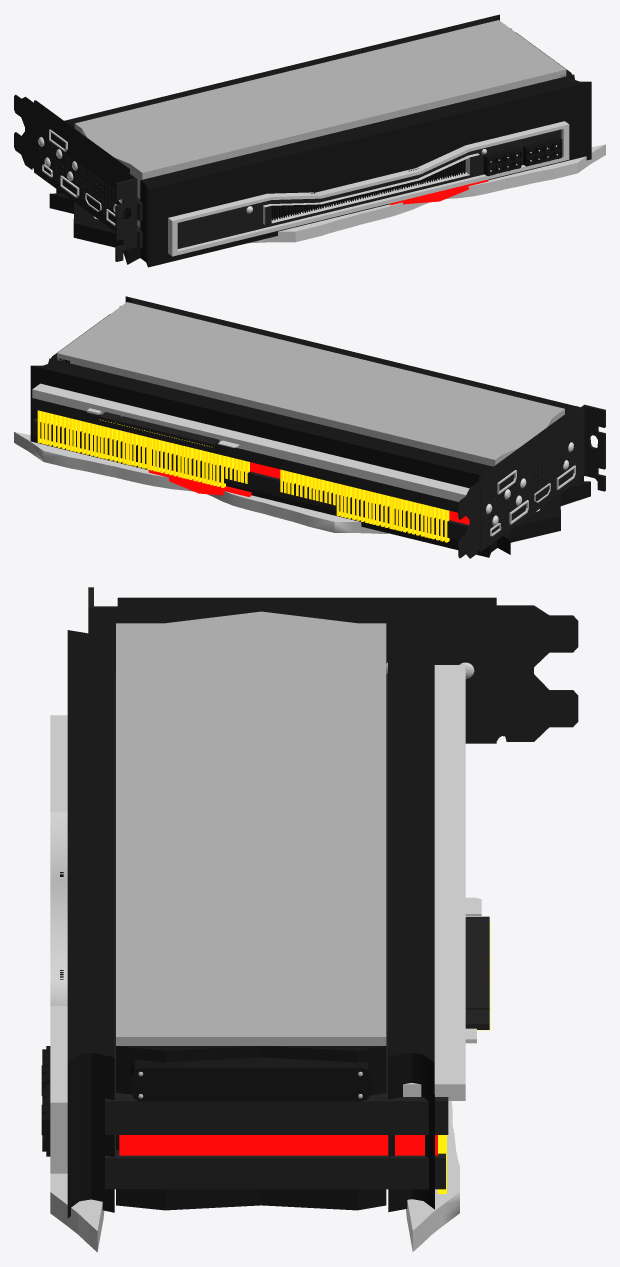
Rendered from gpu.glb.
3 views of the same model, one above another, from view 1: azimuth 30°, elevation 25°; view 2: azimuth 150°, elevation 25°; view 3: azimuth 270°, elevation 25° (orthographic). The views are drawn at different scales.
Visible parts, largest first — view 1: part_gpu; view 2: part_gpu; view 3: part_gpu.
Part boxes in pixels (x1,y1,x2,y2): part_gpu: (14,14,605,267); part_gpu: (14,296,605,558); part_gpu: (41,587,578,1252).
Size of the model in its own units: 2.8 by 0.5281 by 1.32.
4 materials, 4 textured.
